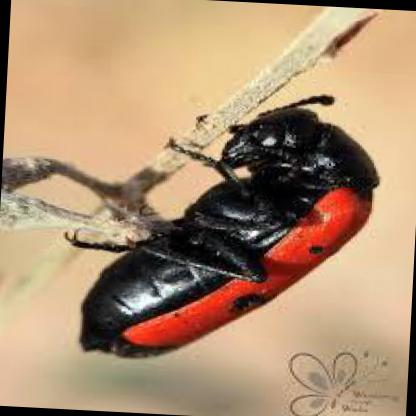blister beetle: (71, 92, 381, 360)
